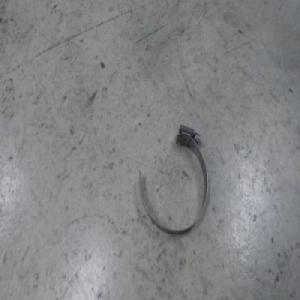AdjustableClamp: (139, 125, 208, 236)
